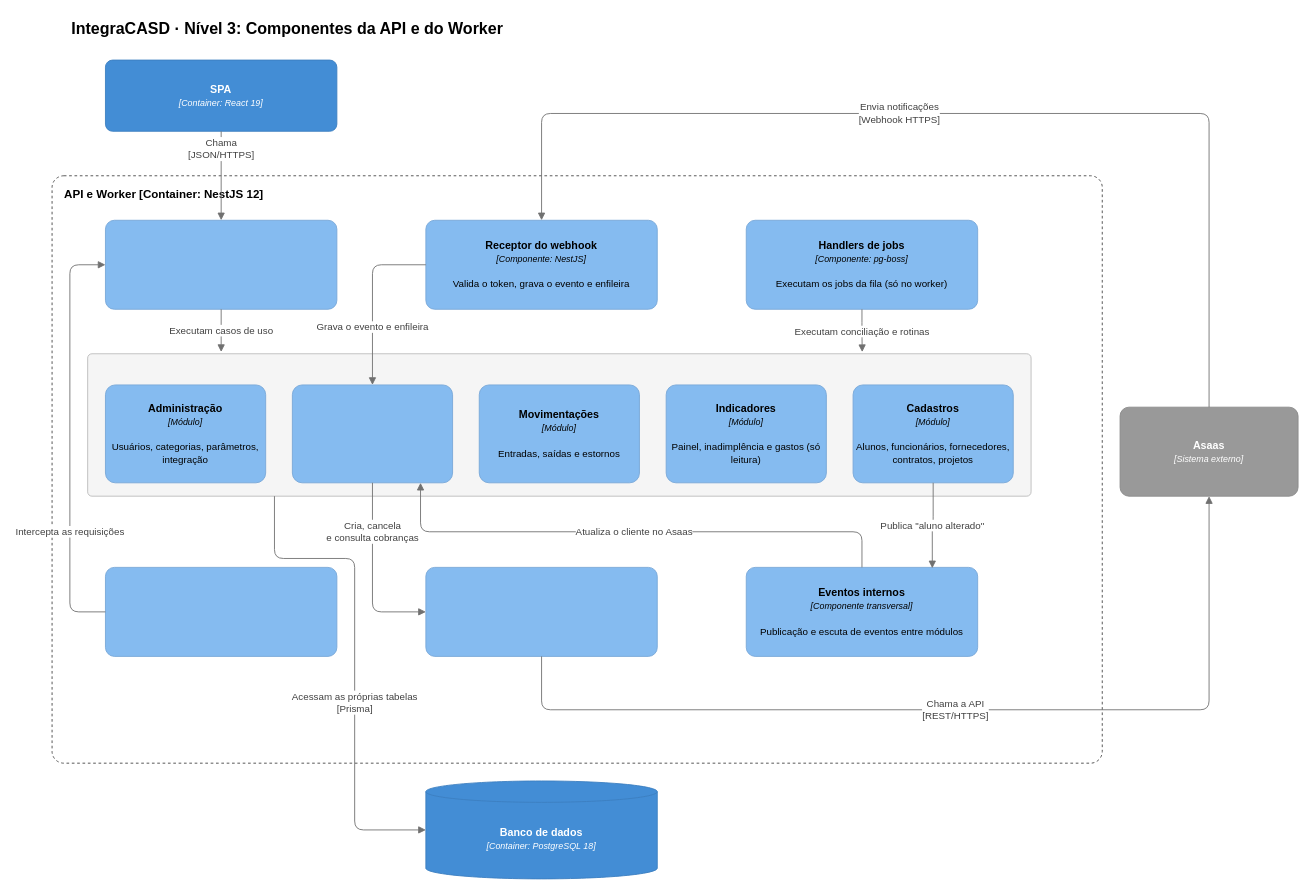
This 1314x894 diagram has some shape labels left out. The box of each missing label's shape, as (x1, y1, x2, y2) in pixels:
Acesso e auditoria [Componente transversal] Sessão, perfis e trilha de auditoria: (105, 566, 337, 656)
Cliente Asaas [Componente transversal] Único componente que conversa com o Asaas: (425, 566, 657, 656)
Cobranças [Módulo] Ciclo de vida da cobrança e conciliação: (291, 384, 453, 483)
Controllers REST [Componente: NestJS] Recebem as requisições da SPA: (105, 219, 337, 309)
Módulos de domínio (casos de uso e regras de negócio): (87, 353, 1031, 496)
